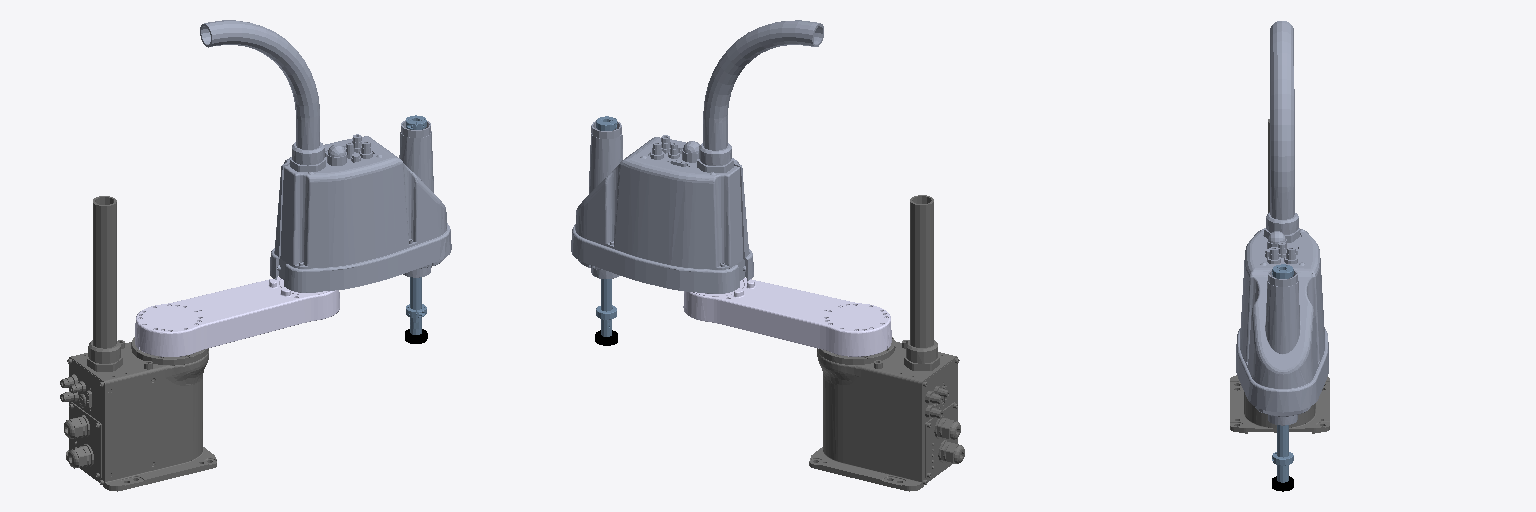
The robot description file, URDF, robot "SCARA":
<robot
  name="SCARA">
  <link
    name="base_link">
    <inertial>
      <origin
        xyz="-0.0396291619870885 -0.00871019094472842 0.100556721714378"
        rpy="0 0 0" />
      <mass
        value="2.52493509218331" />
      <inertia
        ixx="0.0219251161729945"
        ixy="5.41391490870446E-05"
        ixz="0.00187547372649678"
        iyy="0.0276170392981587"
        iyz="-4.46426244526787E-05"
        izz="0.0122037548285845" />
    </inertial>
    <visual>
      <origin
        xyz="0 0 0"
        rpy="0 0 0" />
      <geometry>
        <mesh
          filename="package://SCARA/meshes/base_link.STL" />
      </geometry>
      <material
        name="">
        <color
          rgba="0.5 0.5 0.5 1" />
      </material>
    </visual>
    <collision>
      <origin
        xyz="0 0 0"
        rpy="0 0 0" />
      <geometry>
        <mesh
          filename="package://SCARA/meshes/base_link.STL" />
      </geometry>
    </collision>
  </link>
  <link
    name="l1">
    <inertial>
      <origin
        xyz="0.0993001849908689 8.40831282055473E-05 0.0403572026071247"
        rpy="0 0 0" />
      <mass
        value="4.50906447640433" />
      <inertia
        ixx="0.108378529375537"
        ixy="0.00114604209144417"
        ixz="-0.0751796039483732"
        iyy="0.260865329677849"
        iyz="0.000428646422178779"
        izz="0.163136377396791" />
    </inertial>
    <visual>
      <origin
        xyz="0 0 0"
        rpy="0 0 0" />
      <geometry>
        <mesh
          filename="package://SCARA/meshes/l1.STL" />
      </geometry>
      <material
        name="">
        <color
          rgba="0.9 0.9 1 1" />
      </material>
    </visual>
    <collision>
      <origin
        xyz="0 0 0"
        rpy="0 0 0" />
      <geometry>
        <mesh
          filename="package://SCARA/meshes/l1.STL" />
      </geometry>
    </collision>
  </link>
  <joint
    name="j1"
    type="continuous">
    <origin
      xyz="0.013604 -0.0089828 0.1609"
      rpy="0 0 0.015307" />
    <parent
      link="base_link" />
    <child
      link="l1" />
    <axis
      xyz="0 0 1" />
    <limit
      lower="-1.57"
      upper="1.57"
      effort="100"
      velocity="0.1" />
    <dynamics
      damping="0.01"
      friction="0.1" />
    <safety_controller
      soft_upper_limit="1.57"
      soft_lower_limit="-1.57"
      k_position="50"
      k_velocity="0.1" />
  </joint>
  <link
    name="l2">
    <inertial>
      <origin
        xyz="0.9 0.9 0.9"
        rpy="0 0 0" />
      <mass
        value="1.85927049885449" />
      <inertia
        ixx="0.0258798098082923"
        ixy="-1.38278900689575E-05"
        ixz="0.00996151935474917"
        iyy="0.0376910175827527"
        iyz="3.98874127723958E-05"
        izz="0.0159200656823878" />
    </inertial>
    <visual>
      <origin
        xyz="0 0 0"
        rpy="0 0 0" />
      <geometry>
        <mesh
          filename="package://SCARA/meshes/l2.STL" />
      </geometry>
      <material
        name="">
        <color
          rgba="0.666666666666667 0.694117647058824 0.764705882352941 1" />
      </material>
    </visual>
    <collision>
      <origin
        xyz="0 0 0"
        rpy="0 0 0" />
      <geometry>
        <mesh
          filename="package://SCARA/meshes/l2.STL" />
      </geometry>
    </collision>
  </link>
  <joint
    name="j2"
    type="continuous">
    <origin
      xyz="0.225 -0.001327 0.0482"
      rpy="0 0 -0.011151" />
    <parent
      link="l1" />
    <child
      link="l2" />
    <axis
      xyz="0 0 1" />
    <limit
      lower="-3"
      upper="3"
      effort="50"
      velocity="2" />
    <dynamics
      damping="0.01"
      friction="0.1" />
    <safety_controller
      soft_upper_limit="3"
      soft_lower_limit="-3"
      k_position="80"
      k_velocity="0.1" />
  </joint>
  <link
    name="l3">
    <inertial>
      <origin
        xyz="0.000723929217276431 -0.0014484451493568 0.0589095639572079"
        rpy="0 0 0" />
      <mass
        value="0.118783242273913" />
      <inertia
        ixx="0.00138513463723205"
        ixy="7.80537835970777E-12"
        ixz="5.6031245688995E-07"
        iyy="0.00138517582551882"
        iyz="-2.36712138308125E-09"
        izz="8.02190061536944E-06" />
    </inertial>
    <visual>
      <origin
        xyz="0 0 0"
        rpy="0 0 0" />
      <geometry>
        <mesh
          filename="package://SCARA/meshes/l3.STL" />
      </geometry>
      <material
        name="">
        <color
          rgba="0.5 0.6 0.7 1" />
      </material>
    </visual>
    <collision>
      <origin
        xyz="0 0 0"
        rpy="0 0 0" />
      <geometry>
        <mesh
          filename="package://SCARA/meshes/l3.STL" />
      </geometry>
    </collision>
  </link>
  <joint
    name="j3"
    type="prismatic">
    <origin
      xyz="0.175 -0.00018422 -0.0091"
      rpy="0 0 2.6487" />
    <parent
      link="l2" />
    <child
      link="l3" />
    <axis
      xyz="0 0 1" />
    <limit
      lower="-0.2"
      upper="0.12"
      effort="10"
      velocity="0.1" />
    <dynamics
      damping="0.01"
      friction="0.1" />
    <safety_controller
      soft_upper_limit="1"
      soft_lower_limit="-0.5"
      k_position="20"
      k_velocity="0.01" />
  </joint>
  <link
    name="l4">
    <inertial>
      <origin
        xyz="-1.6923210590325E-05 0.000253238906820726 0.00499298854231604"
        rpy="0 0 0" />
      <mass
        value="0.00589585954631894" />
      <inertia
        ixx="5.13352329553493E-07"
        ixy="-2.52673861718143E-11"
        ixz="3.99807072173318E-10"
        iyy="5.30497593820238E-07"
        iyz="-1.04685342052486E-11"
        izz="9.45751531567891E-07" />
    </inertial>
    <visual>
      <origin
        xyz="0 0 0"
        rpy="0 0 0" />
      <geometry>
        <mesh
          filename="package://SCARA/meshes/l4.STL" />
      </geometry>
      <material
        name="">
        <color
          rgba="0 0 0 1" />
      </material>
    </visual>
    <collision>
      <origin
        xyz="0 0 0"
        rpy="0 0 0" />
      <geometry>
        <mesh
          filename="package://SCARA/meshes/l4.STL" />
      </geometry>
    </collision>
  </link>
  <joint
    name="j4"
    type="continuous">
    <origin
      xyz="0.0007245 -0.0013262 -0.11879"
      rpy="0 0 -2.7383" />
    <parent
      link="l3" />
    <child
      link="l4" />
    <axis
      xyz="0 0 1" />
    <limit
      lower="-4"
      upper="4"
      effort="100"
      velocity="0.2" />
    <dynamics
      damping="0.01"
      friction="0.2" />
    <safety_controller
      soft_upper_limit="4"
      soft_lower_limit="-4"
      k_position="20"
      k_velocity="0.01" />
  </joint>
</robot>

--- What the picture shows (computed from the rendered views, not written in the file) ---
The picture shows the robot from 3 angles, left to right: view 1: azimuth 30°, elevation 25°; view 2: azimuth 150°, elevation 25°; view 3: azimuth 270°, elevation 25°; orthographic projection.
Robot: SCARA — 5 links, 4 joints (3 continuous, 1 prismatic); root link base_link; default pose: all joints at 0.
Visible links, largest first — view 1: l2, base_link, l1, l3; view 2: l2, base_link, l1, l3; view 3: l2, base_link, l3.
Boxes of the visible links, x1,y1,x2,y2 form: l2: (200, 20, 451, 292); base_link: (60, 196, 216, 491); l1: (135, 277, 339, 356); l3: (406, 115, 426, 334); l2: (571, 20, 823, 293); base_link: (809, 195, 964, 491); l1: (683, 278, 891, 356); l3: (596, 116, 617, 336); l2: (1236, 21, 1328, 425); base_link: (1230, 119, 1329, 433); l3: (1272, 264, 1293, 482).
Bounding box of the posed robot: 0.6158 × 0.14 × 0.65 m (x, y, z).
5 mesh visuals loaded from 5 distinct referenced files (5 binary STL).